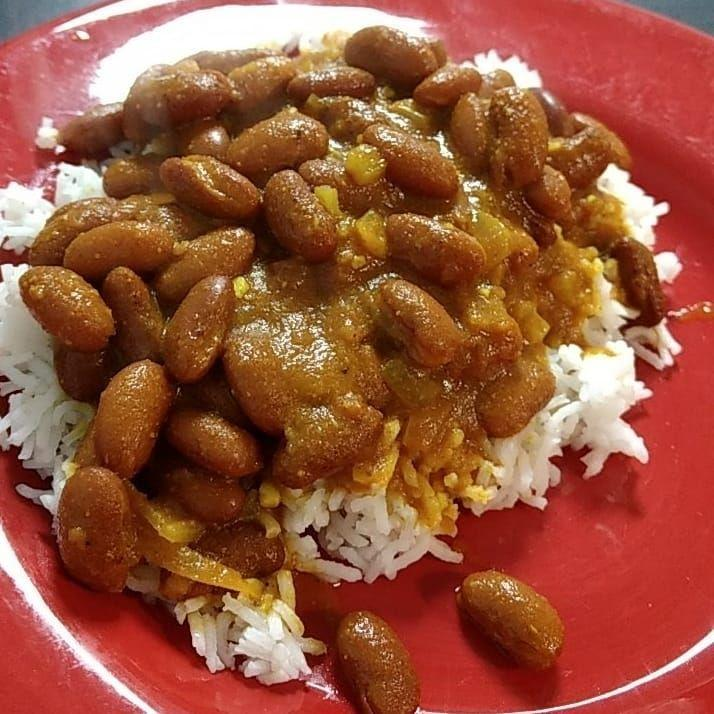rajma: (74, 44, 558, 408)
